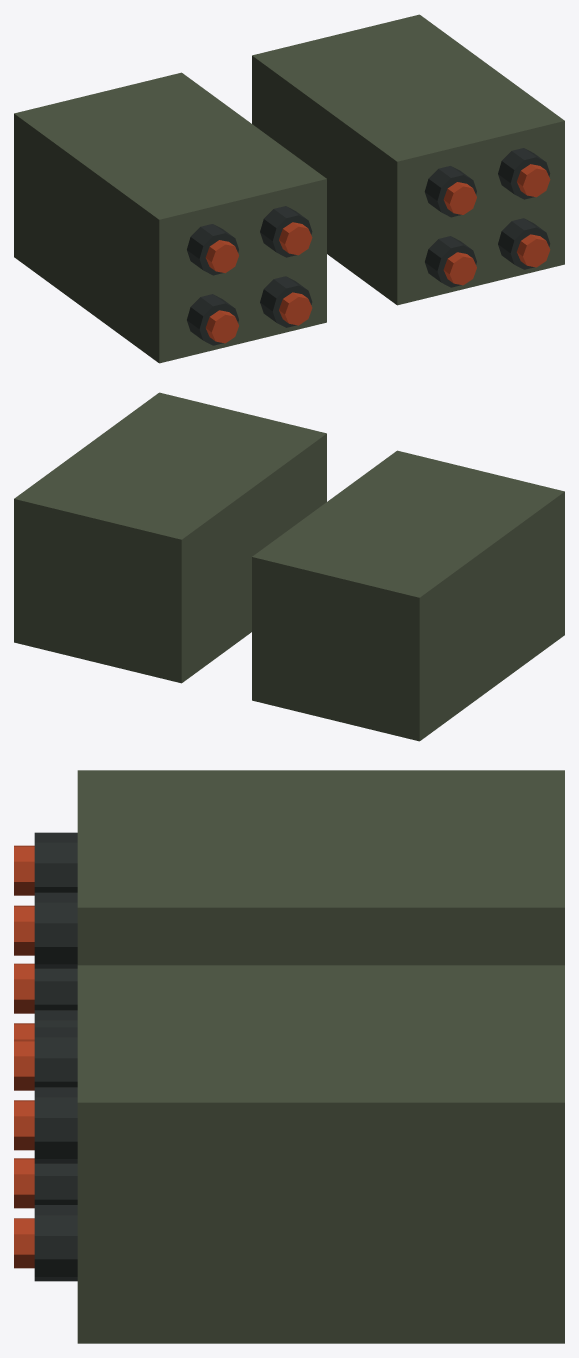
File: Bastion_AdvancedGunTower_WeaponPitch.obj
3 views of the same model, one above another, from view 1: azimuth 30°, elevation 25°; view 2: azimuth 150°, elevation 25°; view 3: azimuth 270°, elevation 25° (orthographic). The views are drawn at different scales.
Visible parts, largest first — view 1: Bastion_AdvancedGunTower_WeaponPitch; view 2: Bastion_AdvancedGunTower_WeaponPitch; view 3: Bastion_AdvancedGunTower_WeaponPitch.
Part boxes in pixels (<box>): Bastion_AdvancedGunTower_WeaponPitch: <box>14,14,564,363</box>; Bastion_AdvancedGunTower_WeaponPitch: <box>14,392,564,741</box>; Bastion_AdvancedGunTower_WeaponPitch: <box>14,770,564,1343</box>.
Bounding box in the file's own units: 2.66 × 0.9 × 1.87.
1 material, 1 textured.
